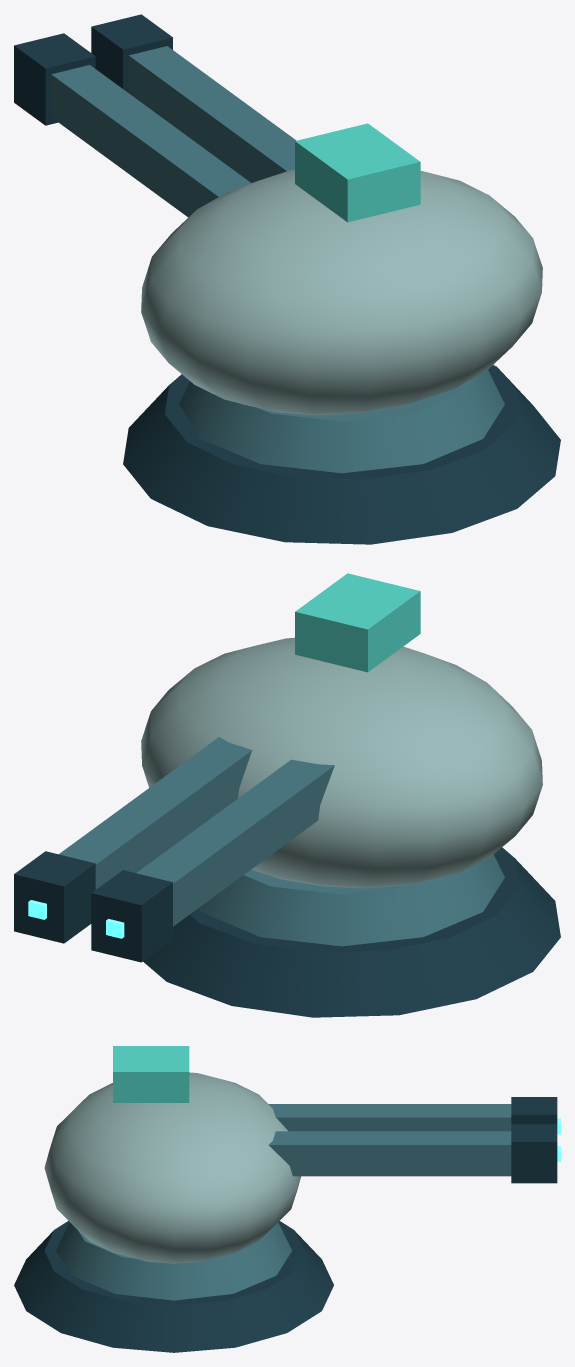
Rendered from pelagic_high_pressure--beam_turret.glb.
The picture shows the model from 3 angles, top to bottom: view 1: azimuth 30°, elevation 25°; view 2: azimuth 150°, elevation 25°; view 3: azimuth 270°, elevation 25°; orthographic projection. The views are drawn at different scales.
Parts seen in each view (by area): view 1: pressure_module_housing_3, mount_adapter_1, rotation_bearing_2, weapon_barrel_4, weapon_barrel_7, targeting_unit_10, muzzle_5, muzzle_8; view 2: pressure_module_housing_3, mount_adapter_1, rotation_bearing_2, weapon_barrel_4, weapon_barrel_7, targeting_unit_10, muzzle_5, muzzle_8; view 3: pressure_module_housing_3, mount_adapter_1, weapon_barrel_7, rotation_bearing_2, weapon_barrel_4, targeting_unit_10, muzzle_8, muzzle_5.
Part boxes in pixels (bbox=[...]): pressure_module_housing_3: bbox=[141, 169, 542, 415]; mount_adapter_1: bbox=[123, 365, 560, 544]; rotation_bearing_2: bbox=[179, 370, 504, 473]; weapon_barrel_4: bbox=[51, 65, 251, 217]; weapon_barrel_7: bbox=[128, 46, 296, 182]; targeting_unit_10: bbox=[295, 123, 420, 222]; muzzle_5: bbox=[14, 33, 95, 125]; muzzle_8: bbox=[91, 14, 172, 92]; pressure_module_housing_3: bbox=[141, 637, 542, 888]; mount_adapter_1: bbox=[143, 847, 560, 1017]; rotation_bearing_2: bbox=[198, 854, 504, 946]; weapon_barrel_4: bbox=[136, 759, 334, 926]; weapon_barrel_7: bbox=[59, 737, 252, 889]; targeting_unit_10: bbox=[295, 573, 420, 672]; muzzle_5: bbox=[91, 870, 172, 962]; muzzle_8: bbox=[14, 851, 95, 943]; pressure_module_housing_3: bbox=[44, 1072, 300, 1263]; mount_adapter_1: bbox=[14, 1221, 333, 1352]; weapon_barrel_7: bbox=[268, 1131, 511, 1176]; rotation_bearing_2: bbox=[56, 1222, 291, 1300]; weapon_barrel_4: bbox=[268, 1104, 511, 1131]; targeting_unit_10: bbox=[113, 1046, 189, 1102]; muzzle_8: bbox=[511, 1124, 557, 1183]; muzzle_5: bbox=[511, 1097, 557, 1124].
Size of the model in its own units: 10.08 by 7.86 by 17.22.
